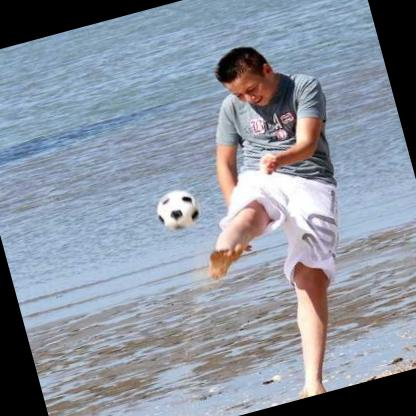ball: (152, 184, 202, 233)
